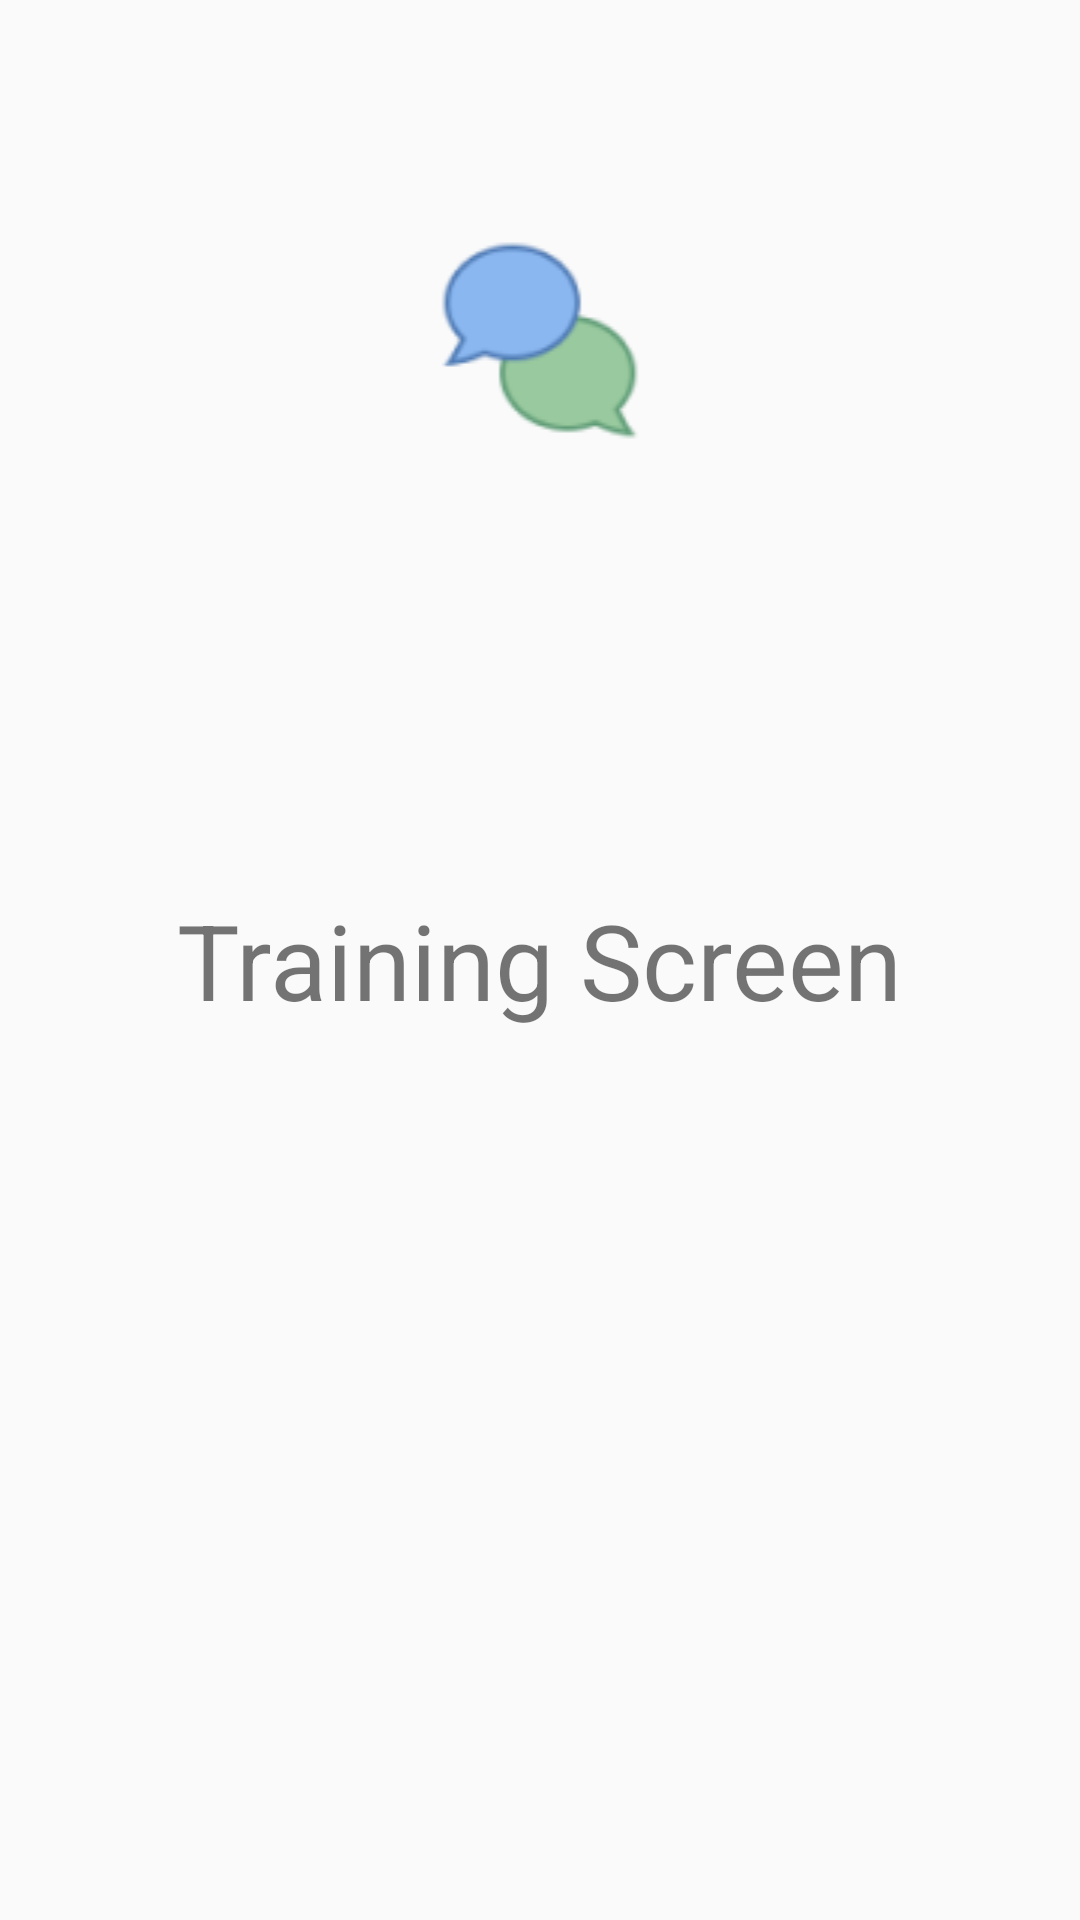

Screen size 1080×1920. Icon name, then its box in pixels as box(x1, y1, x2, y2):
chat: box(442, 243, 638, 438)
